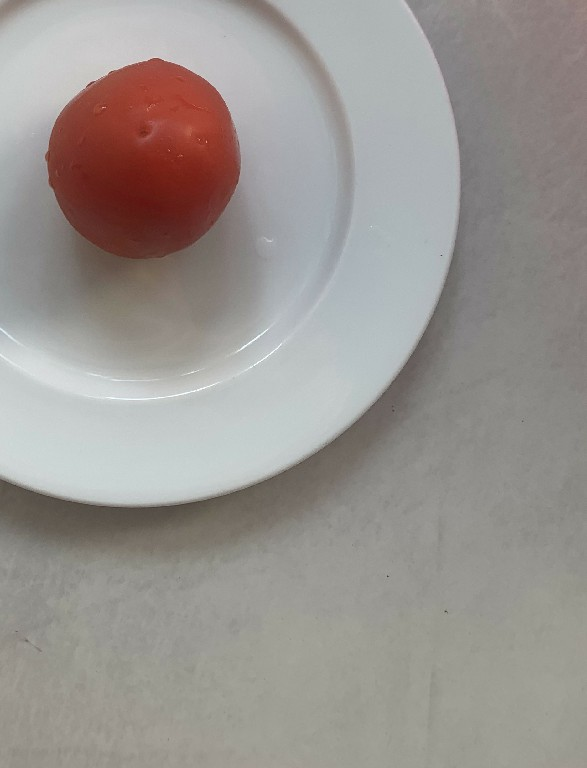OK: (38, 47, 246, 271)
